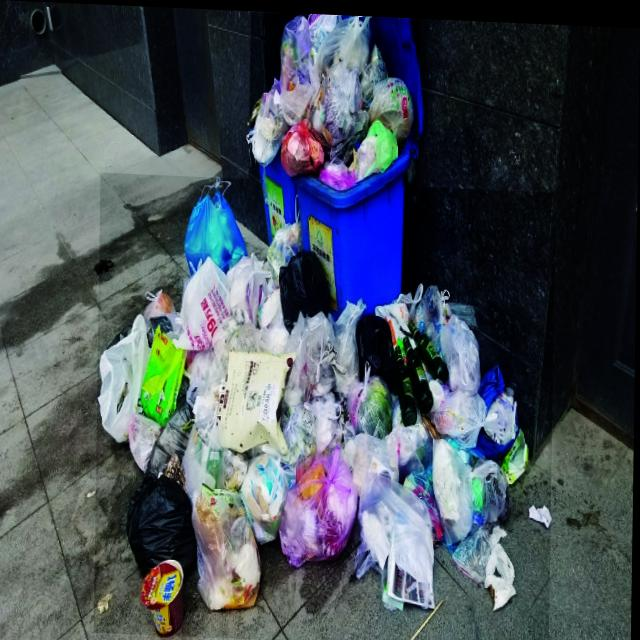garbage: (96, 171, 556, 640)
overflow: (248, 10, 419, 320)
